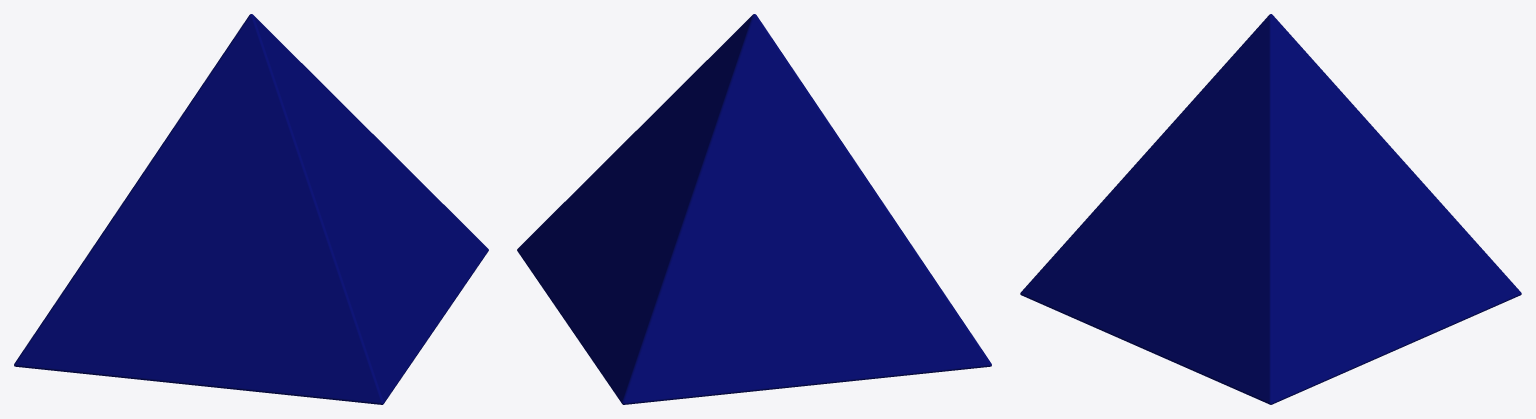
The model's file is Square pyramid.fbx.
3 views of the same model, side by side, from view 1: azimuth 30°, elevation 25°; view 2: azimuth 150°, elevation 25°; view 3: azimuth 270°, elevation 25° (orthographic). The views are drawn at different scales.
Parts seen in each view (by area): view 1: node_id30; view 2: node_id30; view 3: node_id30.
Boxes of the visible parts, x1,y1,x2,y2 form: node_id30: (14, 14, 488, 404); node_id30: (517, 14, 991, 404); node_id30: (1020, 14, 1521, 404).
Bounding box in the file's own units: 0.512 × 0.3042 × 0.4919.
1 material, 1 textured.
